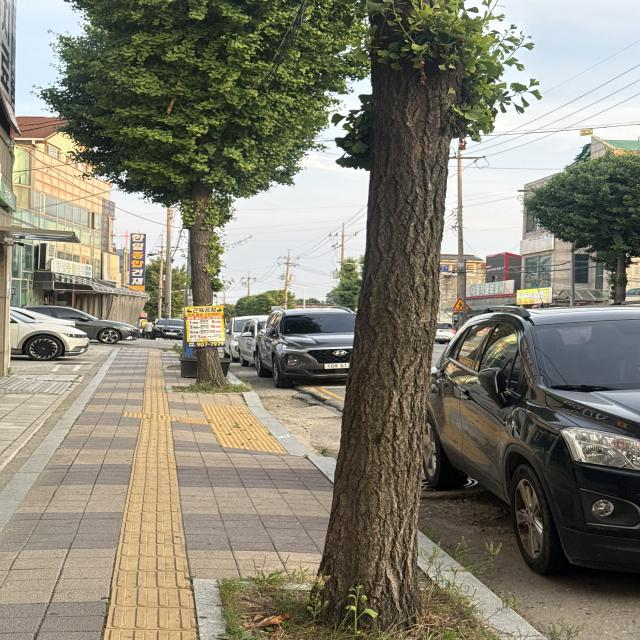car: (408, 288, 640, 588), (250, 302, 383, 391), (24, 299, 138, 350), (8, 306, 90, 361), (152, 312, 195, 340)
